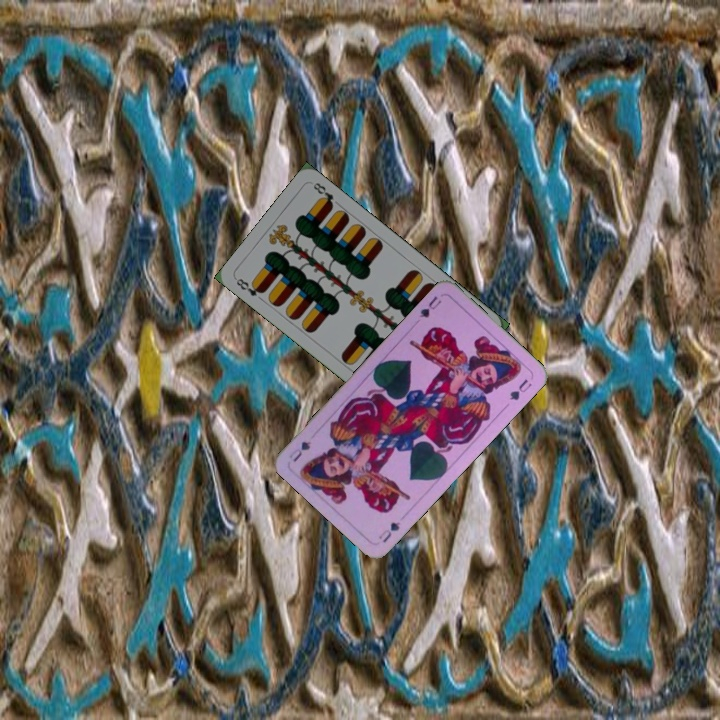E8: (232, 274, 267, 299)
GU: (415, 292, 444, 320), (374, 518, 403, 545)
